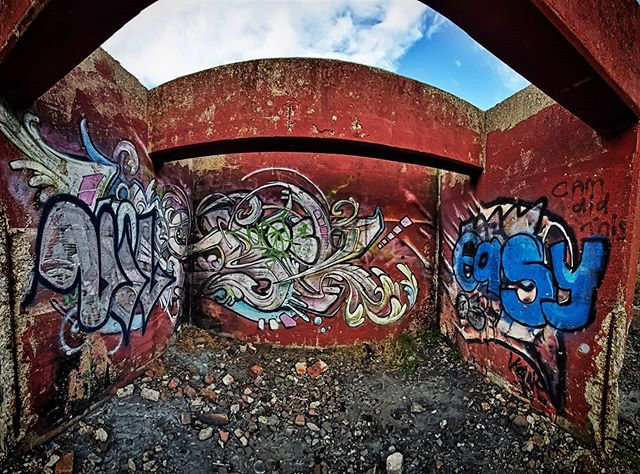graffiti: (3, 126, 421, 339), (438, 201, 620, 345)
sky: (131, 1, 513, 110)
